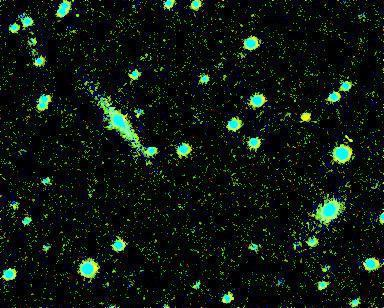star: (293, 100, 323, 130)
